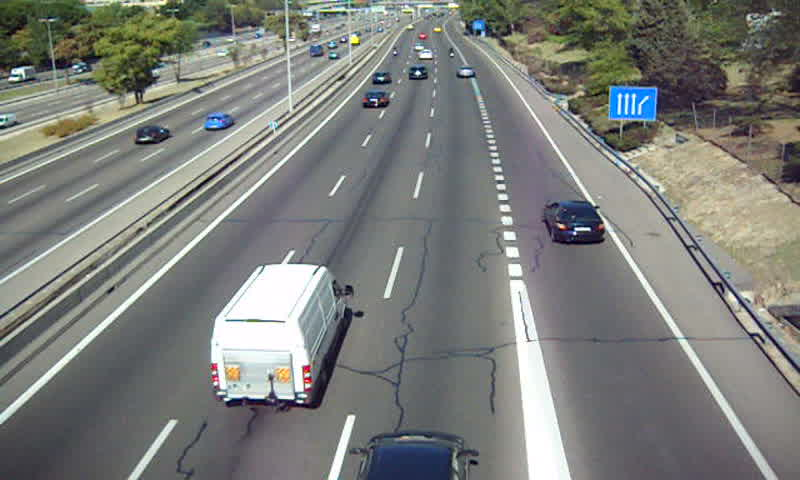car: (542, 200, 604, 244), (362, 90, 387, 107), (406, 66, 427, 82), (370, 70, 392, 85), (455, 65, 476, 79), (417, 48, 436, 60)
van: (211, 263, 354, 410)
